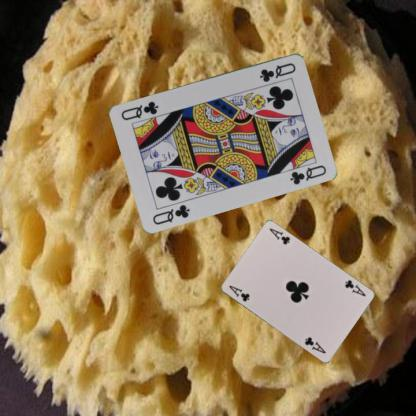Ac: (226, 282, 251, 302), (342, 278, 367, 298)
Qc: (150, 202, 191, 226), (257, 60, 297, 83)
